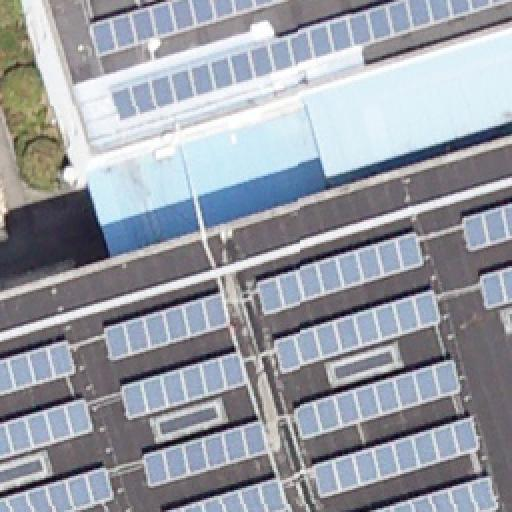solar-panel: (112, 0, 512, 120), (310, 412, 486, 500), (274, 283, 446, 373), (253, 232, 427, 316), (295, 356, 465, 440), (88, 0, 280, 58), (120, 347, 252, 421), (140, 417, 272, 487), (104, 290, 232, 362), (0, 396, 96, 460), (1, 464, 119, 512), (362, 473, 502, 511), (159, 473, 289, 511), (0, 336, 76, 396), (464, 201, 512, 255), (480, 267, 512, 309)
